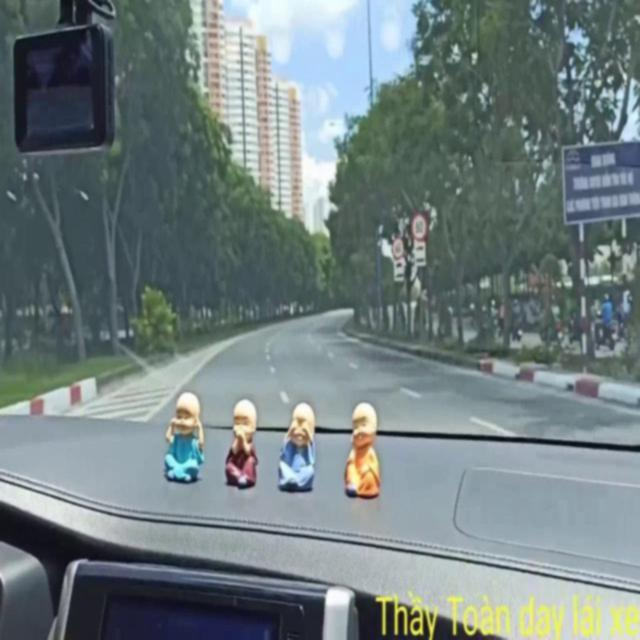Biển phụ: (412, 240, 428, 265), (392, 260, 406, 280)
Giới hạn tốc độ: 60Km/h: (389, 238, 406, 260)
Giới hạn tốc độ: 80Km/h: (407, 208, 428, 238)
Khác: (562, 144, 637, 222)
